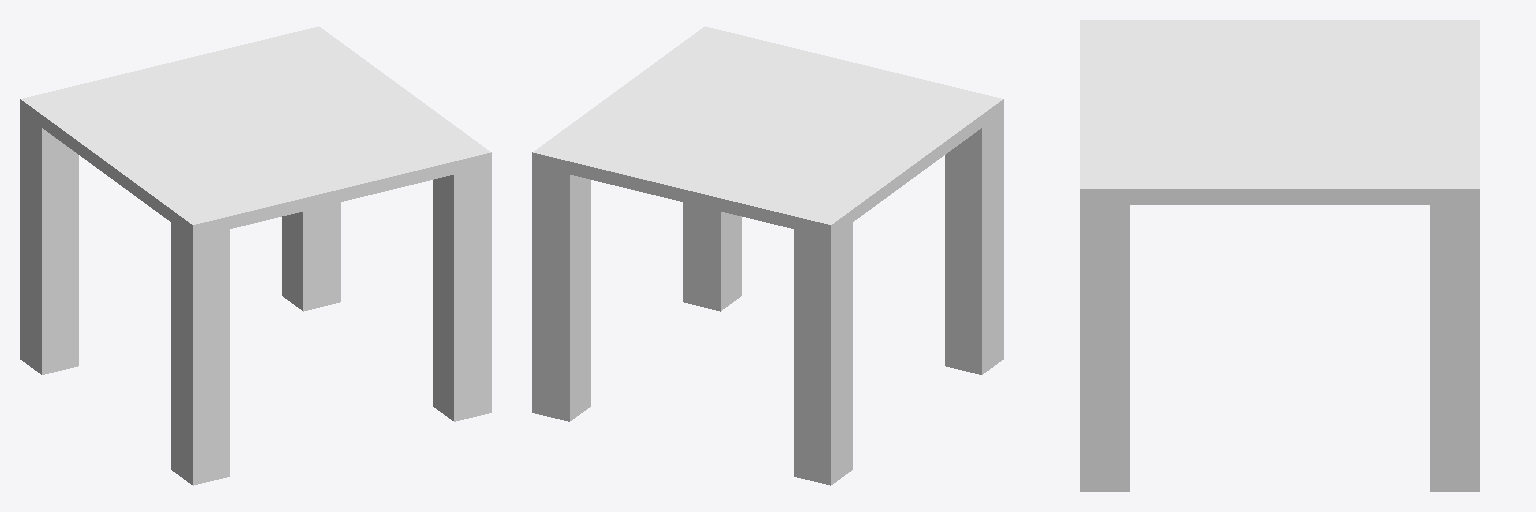
URDF robot description (terrain-highplate_100):
<?xml version="1.0" encoding="utf-8"?>
<!-- This URDF was automatically created by SolidWorks to URDF Exporter! Originally created by [author] ([email redacted]) 
     Commit Version: 1.6.0-4-g7f85cfe  Build Version: 1.6.7995.38578
     For more information, please see http://wiki.ros.org/sw_urdf_exporter -->
<robot
  name="terrain-highplate_100">
  <link
    name="base_link">
    <inertial>
      <origin
        xyz="-0.599999999999998 0.618000000000001 0.70357142857143"
        rpy="0 0 0" />
      <mass
        value="74.025" />
      <inertia
        ixx="22.8340058035714"
        ixy="7.54171031180919E-15"
        ixz="1.55348231426529E-14"
        iyy="22.8340058035714"
        iyz="1.20888747672957E-14"
        izz="30.424275" />
    </inertial>
    <visual>
      <origin
        xyz="0 0 0"
        rpy="0 0 0" />
      <geometry>
        <mesh
          filename="package://terrain-highplate_100/meshes/base_link.STL" />
      </geometry>
      <material
        name="">
        <color
          rgba="1 1 1 1" />
      </material>
    </visual>
    <collision>
      <origin
        xyz="0 0 0"
        rpy="0 0 0" />
      <geometry>
        <mesh
          filename="package://terrain-highplate_100/meshes/base_link.STL" />
      </geometry>
    </collision>
  </link>
  <gazebo reference="base_link">
    <selfCollide>false</selfCollide>
    <mu1>10</mu1>
    <mu2>10</mu2>
    <kp value="10000000.0" />
    <kd value="1.0" />
    <!-- <fdir1 value="0 1 0" /> -->
    <gravity>1</gravity>
    <maxContacts>10</maxContacts>
  </gazebo>
</robot>

--- Render facts (derived) ---
The picture shows the robot from 3 angles, left to right: view 1: azimuth 30°, elevation 25°; view 2: azimuth 150°, elevation 25°; view 3: azimuth 270°, elevation 25°; orthographic projection.
Robot: terrain-highplate_100 — 1 links, 0 joints (none); root link base_link; default pose: every joint at zero.
Visible links, largest first — view 1: base_link; view 2: base_link; view 3: base_link.
Link boxes in pixels (x1=…): base_link: x1=20, y1=26, x2=491, y2=485; base_link: x1=532, y1=26, x2=1003, y2=485; base_link: x1=1080, y1=20, x2=1479, y2=491.
Size in the robot's own frame: 1.2 by 1.2 by 1 metres.
Meshes: 1 distinct files referenced, 1 mesh visuals loaded (1 binary STL).
